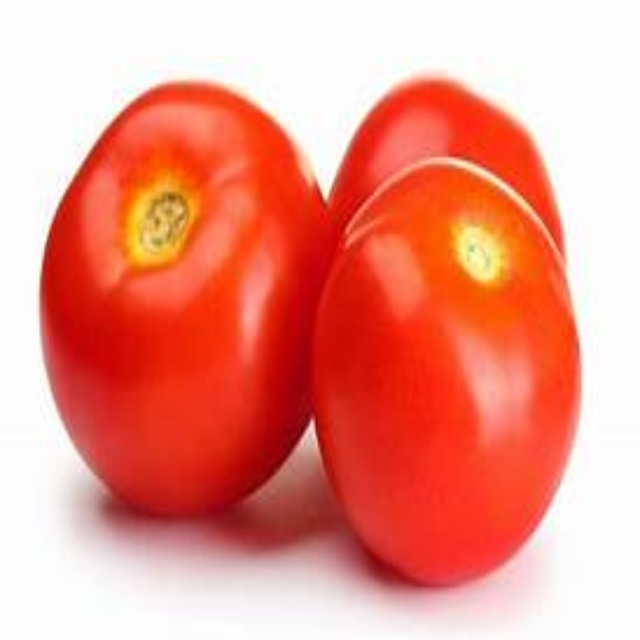tomato: (51, 83, 325, 512), (309, 190, 583, 590), (289, 44, 622, 270)
